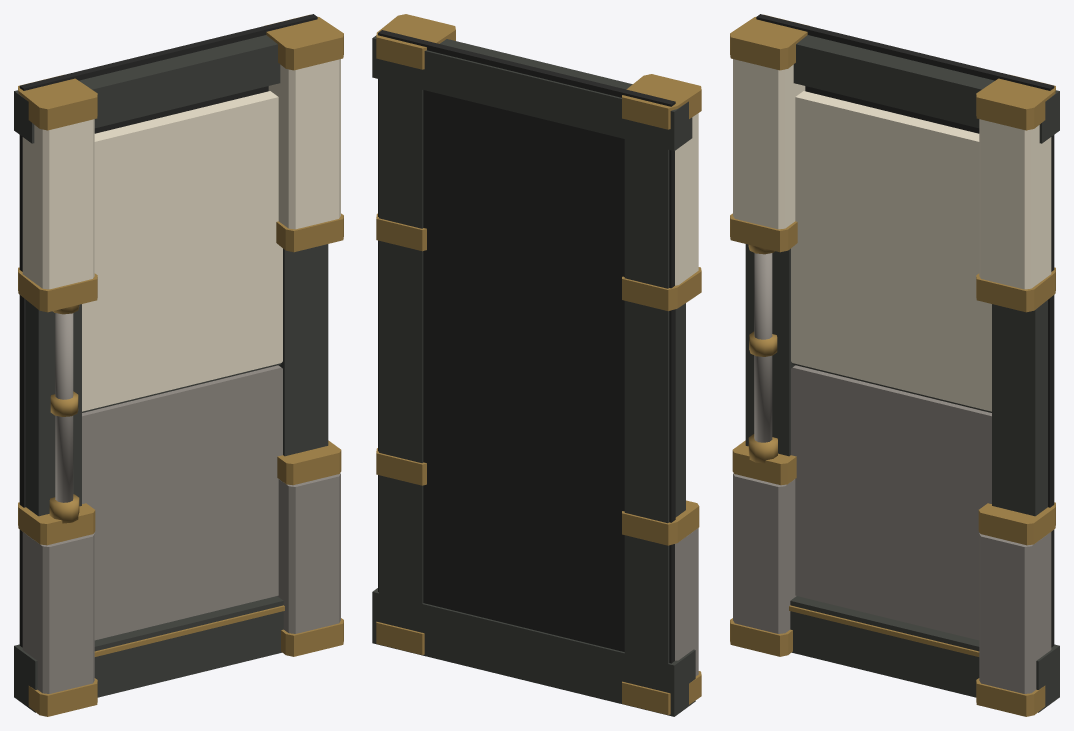
The model's file is b3_wall.glb.
3 views of the same model, side by side, from view 1: azimuth 30°, elevation 25°; view 2: azimuth 150°, elevation 25°; view 3: azimuth 330°, elevation 25° (orthographic).
Parts seen in each view (by area): view 1: b3_wall; view 2: b3_wall; view 3: b3_wall.
Boxes of the visible parts, x1,y1,x2,y2 form: b3_wall: (14, 14, 343, 716); b3_wall: (372, 14, 701, 716); b3_wall: (730, 14, 1059, 716).
Bounding box in the file's own units: 2.1 × 4.03 × 0.3756.
